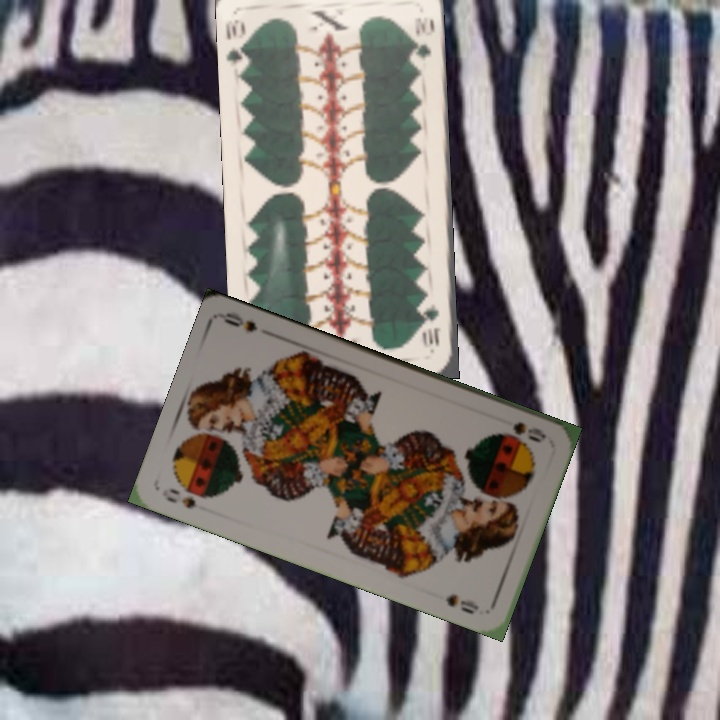G10: (223, 15, 252, 70), (421, 300, 443, 350)
SO: (161, 484, 209, 511), (508, 417, 549, 445)
